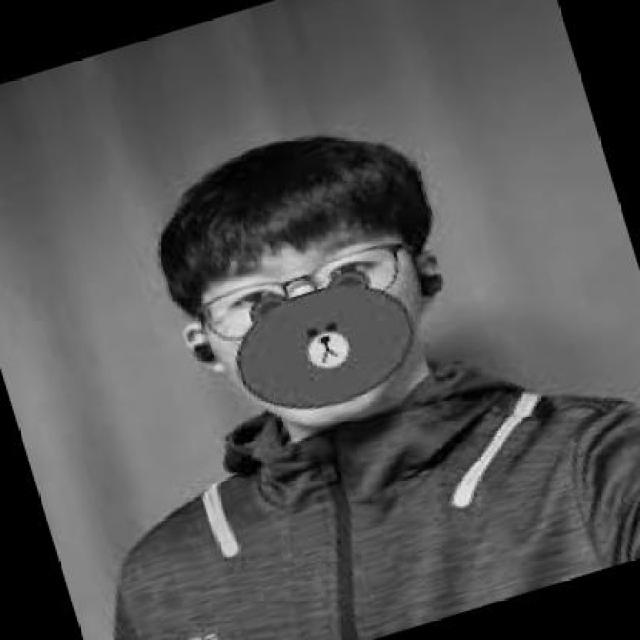earphone: (186, 329, 233, 380), (409, 268, 457, 308)
